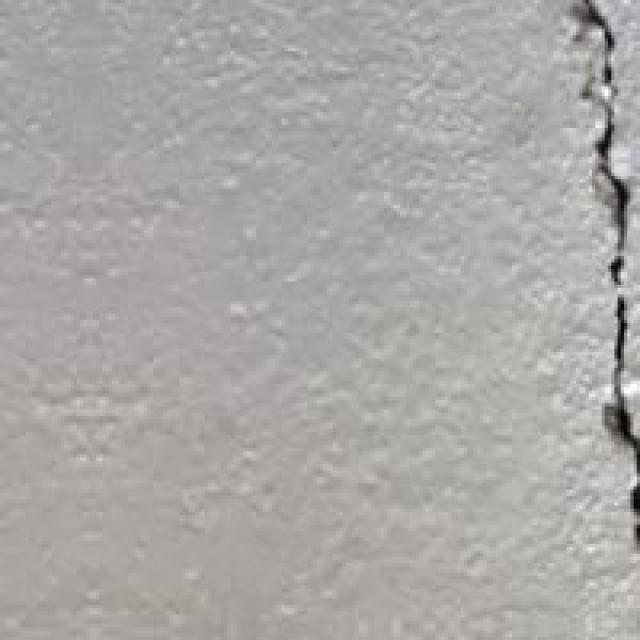Crack: (464, 0, 637, 557)
